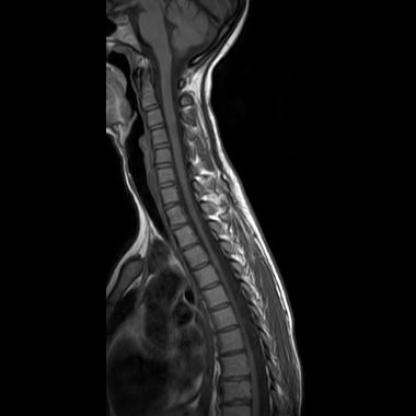Disc Bulgerotation: (151, 140, 170, 154)
